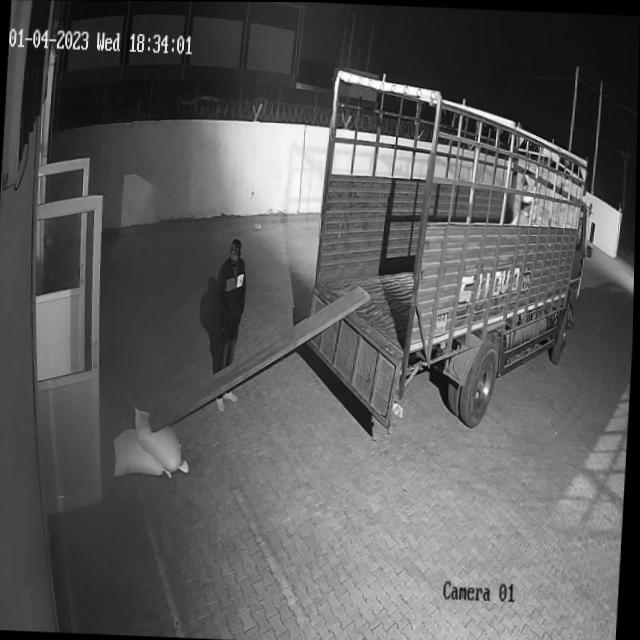sack: (131, 404, 193, 473), (112, 427, 174, 477)
